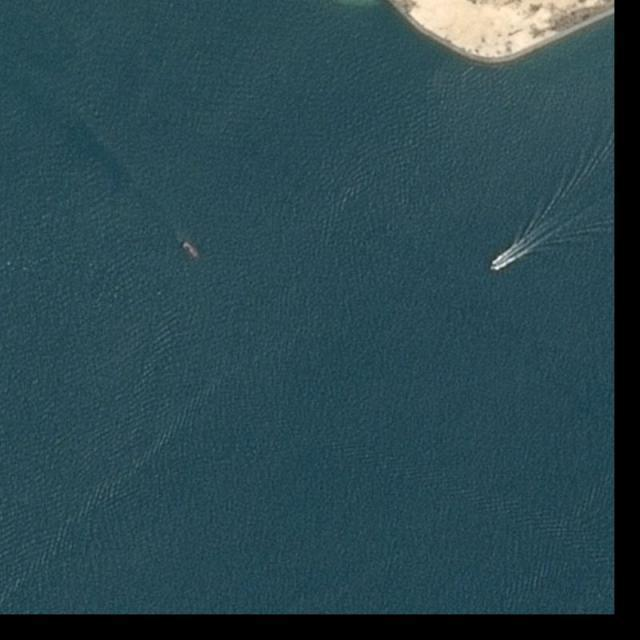ship: (180, 241, 200, 259), (491, 258, 505, 270)
